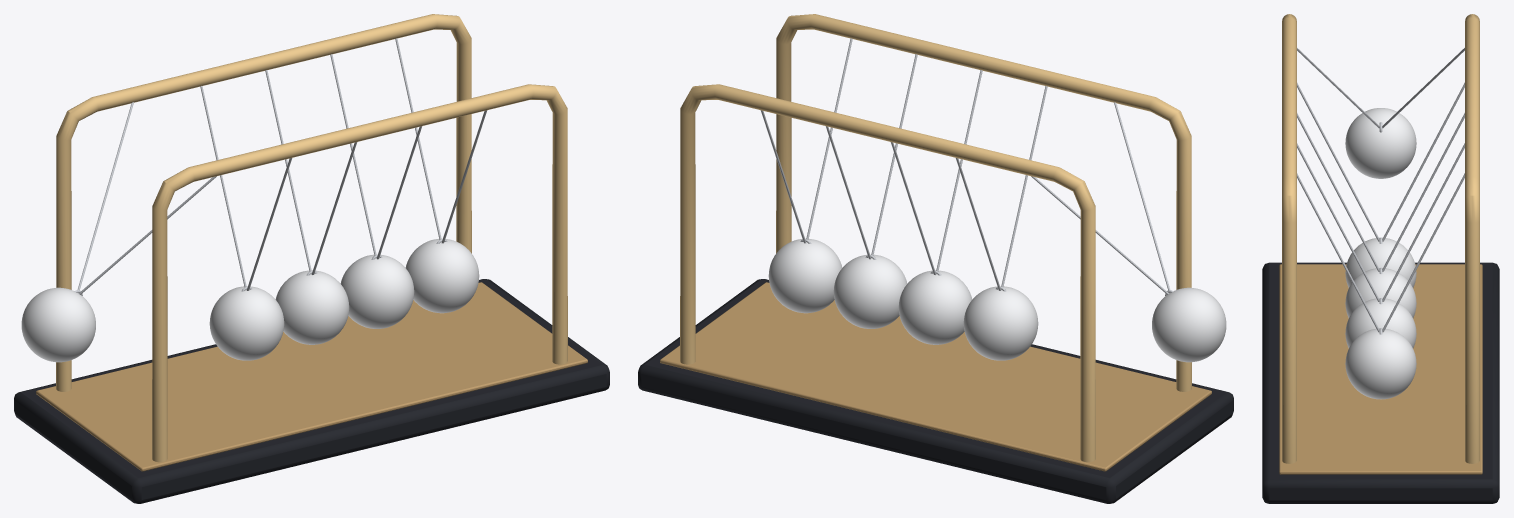
The model's file is cradle.glb.
The picture shows the model from 3 angles, left to right: view 1: azimuth 30°, elevation 25°; view 2: azimuth 150°, elevation 25°; view 3: azimuth 270°, elevation 25°; orthographic projection. The views are drawn at different scales.
Visible parts, largest first — view 1: baseplate, base, frame, frame.001, ball, ball.001, ball.002, ball.003, ball.004; view 2: baseplate, base, frame.001, frame, ball, ball.001, ball.002, ball.003, ball.004; view 3: baseplate, base, frame, frame.001, ball.004, ball, ball.003, ball.002, ball.001, string.002, string.003, string.008 (+7 smaller).
Boxes of the visible parts, box(x1,y1,x2,y2) form: baseplate: box(36, 282, 587, 471); base: box(14, 279, 609, 503); frame: box(152, 84, 567, 462); frame.001: box(56, 14, 471, 391); ball: box(21, 287, 95, 362); ball.001: box(209, 286, 284, 360); ball.002: box(275, 270, 349, 344); ball.003: box(340, 254, 414, 328); ball.004: box(405, 238, 479, 313); baseplate: box(660, 282, 1211, 471); base: box(638, 279, 1233, 503); frame.001: box(680, 84, 1095, 462); frame: box(776, 14, 1191, 391); ball: box(1152, 287, 1226, 362); ball.001: box(963, 286, 1038, 360); ball.002: box(898, 270, 972, 344); ball.003: box(833, 254, 907, 328); ball.004: box(768, 238, 842, 313); baseplate: box(1279, 264, 1482, 474); base: box(1262, 262, 1499, 503); frame: box(1282, 14, 1296, 463); frame.001: box(1465, 14, 1479, 463); ball.004: box(1345, 328, 1416, 399); ball: box(1345, 108, 1416, 178); ball.003: box(1345, 298, 1416, 348); ball.002: box(1345, 268, 1416, 318); ball.001: box(1345, 237, 1416, 287); string.002: box(1297, 82, 1379, 241); string.003: box(1382, 82, 1464, 241); string.008: box(1297, 173, 1379, 332).
Bounding box in the file's own units: 1.7 × 0.9718 × 0.7.
